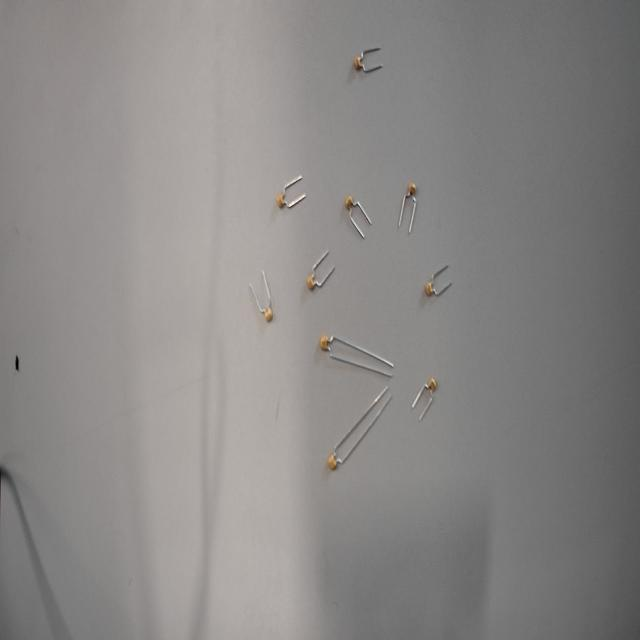capacitor: (243, 262, 286, 342), (394, 168, 426, 251), (275, 164, 314, 224), (341, 192, 380, 252), (322, 426, 362, 484), (422, 255, 460, 314), (304, 242, 340, 304), (408, 365, 444, 423), (317, 324, 354, 373), (351, 45, 391, 83)
